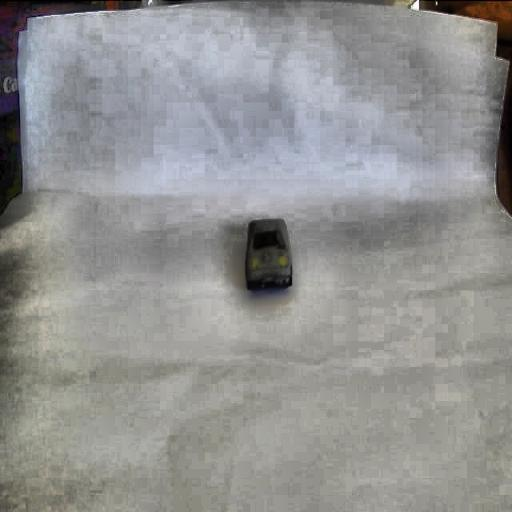normal_car: (240, 218, 295, 296)
